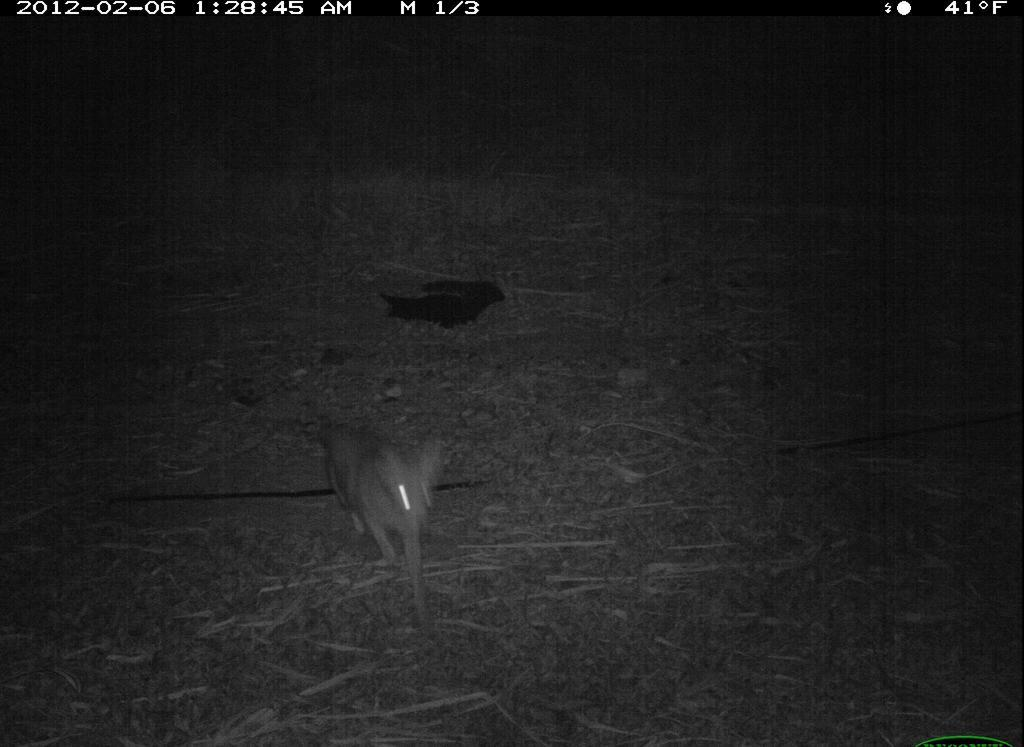coyote: (300, 396, 465, 635)
